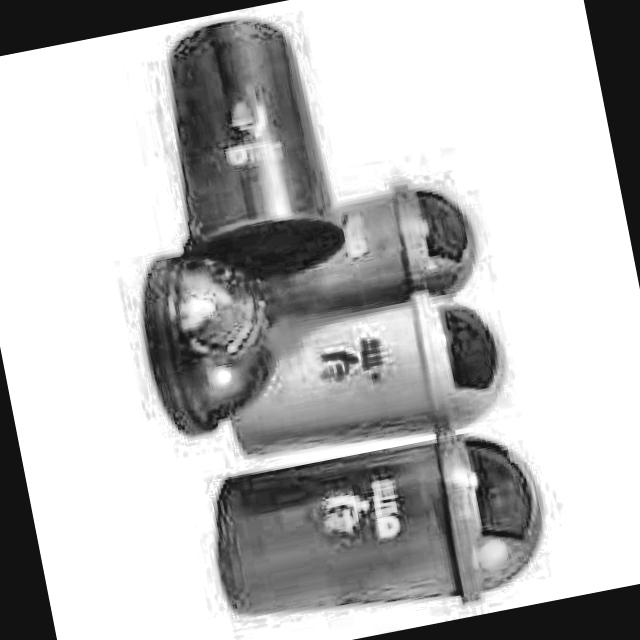Dustbin: (182, 415, 566, 640), (132, 3, 364, 320), (221, 288, 530, 477), (247, 178, 492, 330)
